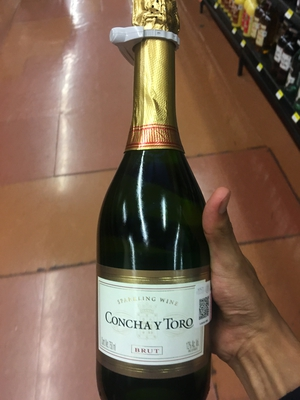brut: (87, 12, 230, 400)
